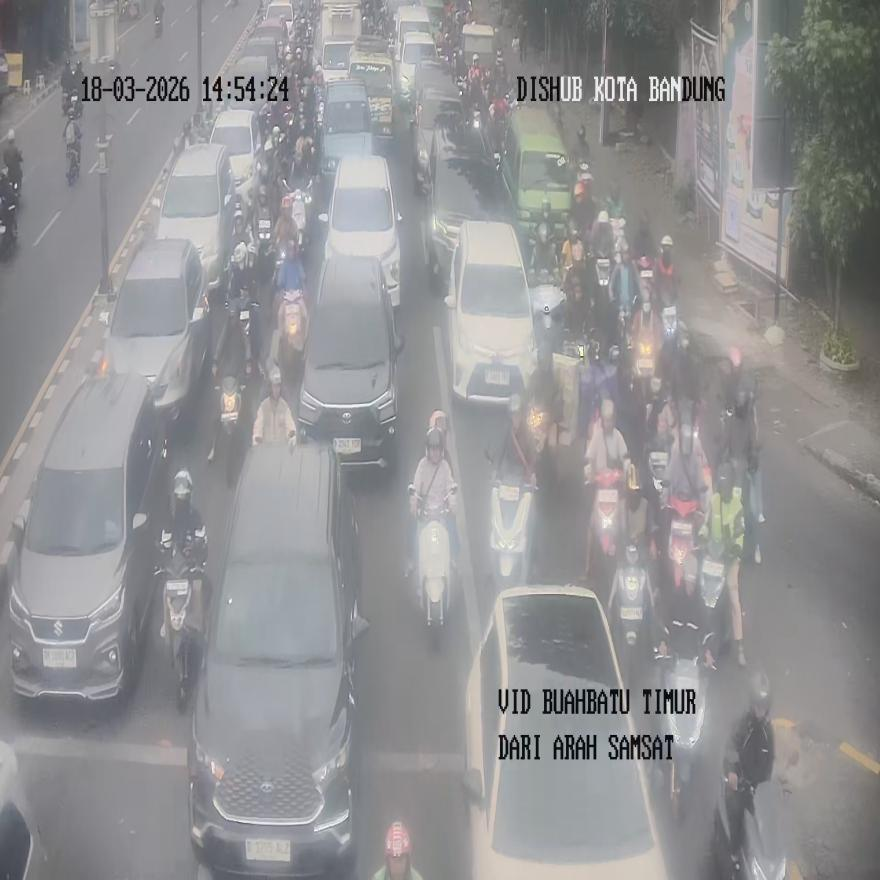Motor: (186, 437, 368, 876), (462, 585, 669, 878), (6, 367, 168, 704), (296, 251, 404, 468), (104, 238, 210, 424), (443, 219, 538, 404), (151, 143, 236, 299), (322, 154, 402, 310), (499, 106, 573, 237), (319, 78, 374, 180)
Truk: (652, 625, 716, 823), (712, 754, 786, 879), (410, 484, 457, 646), (160, 554, 206, 713), (609, 549, 652, 685), (489, 474, 534, 589), (585, 472, 621, 583), (278, 287, 308, 375), (218, 375, 242, 482), (290, 189, 310, 256), (0, 191, 19, 259), (66, 140, 80, 186), (154, 1, 163, 36)
